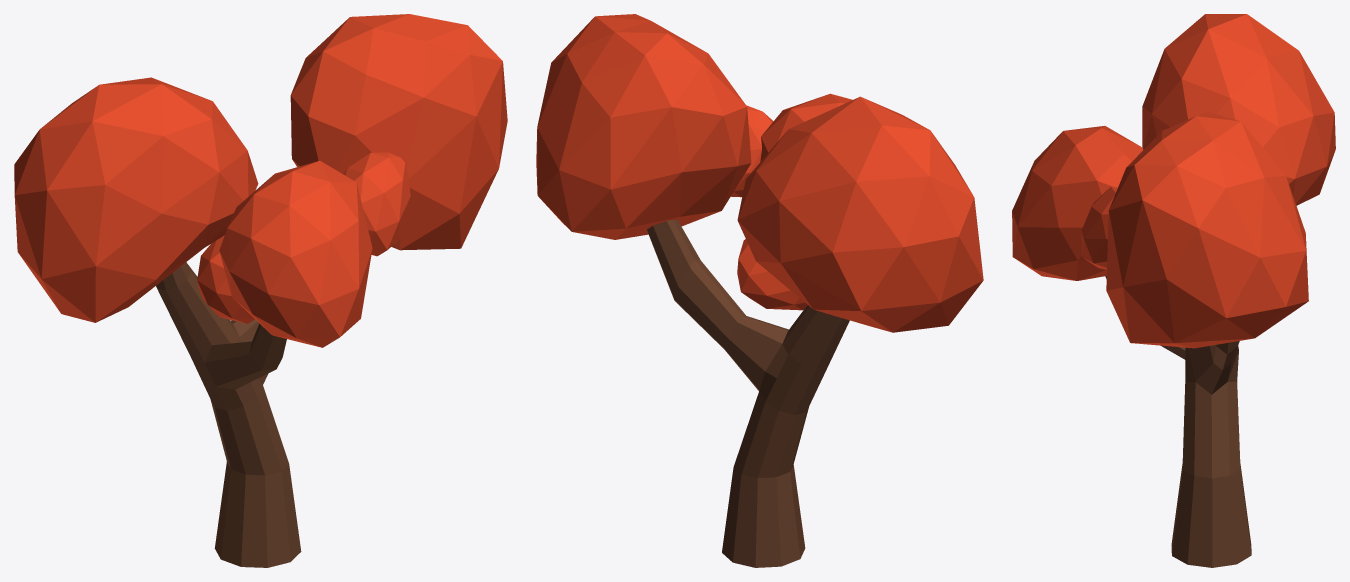
The picture shows the model from 3 angles, left to right: view 1: azimuth 30°, elevation 25°; view 2: azimuth 150°, elevation 25°; view 3: azimuth 270°, elevation 25°; orthographic projection. The views are drawn at different scales.
Visible parts, largest first — view 1: t2-orange; view 2: t2-orange; view 3: t2-orange.
Boxes of the visible parts, left/top/right/bottom form: t2-orange: left=14, top=14, right=507, bottom=567; t2-orange: left=536, top=14, right=983, bottom=567; t2-orange: left=1012, top=14, right=1335, bottom=567.
Size of the model in its own units: 673 by 718 by 435.
